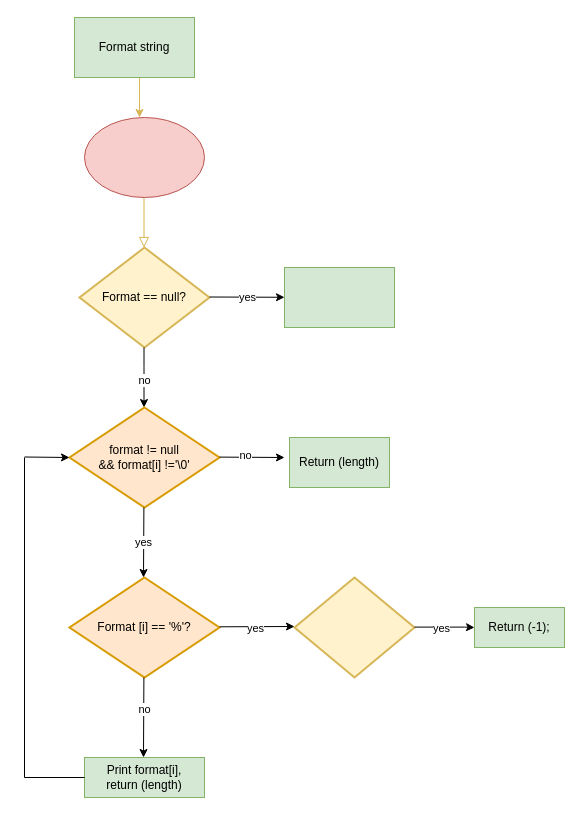
The diagram is 582 pixels wide and 815 high, and some of its shapes have lost their labels. Each missing label, with the box of its shape:
Format == 0?: (293, 576, 415, 678)
Return (-1): (284, 266, 394, 328)
Start _printf: (84, 116, 204, 198)
